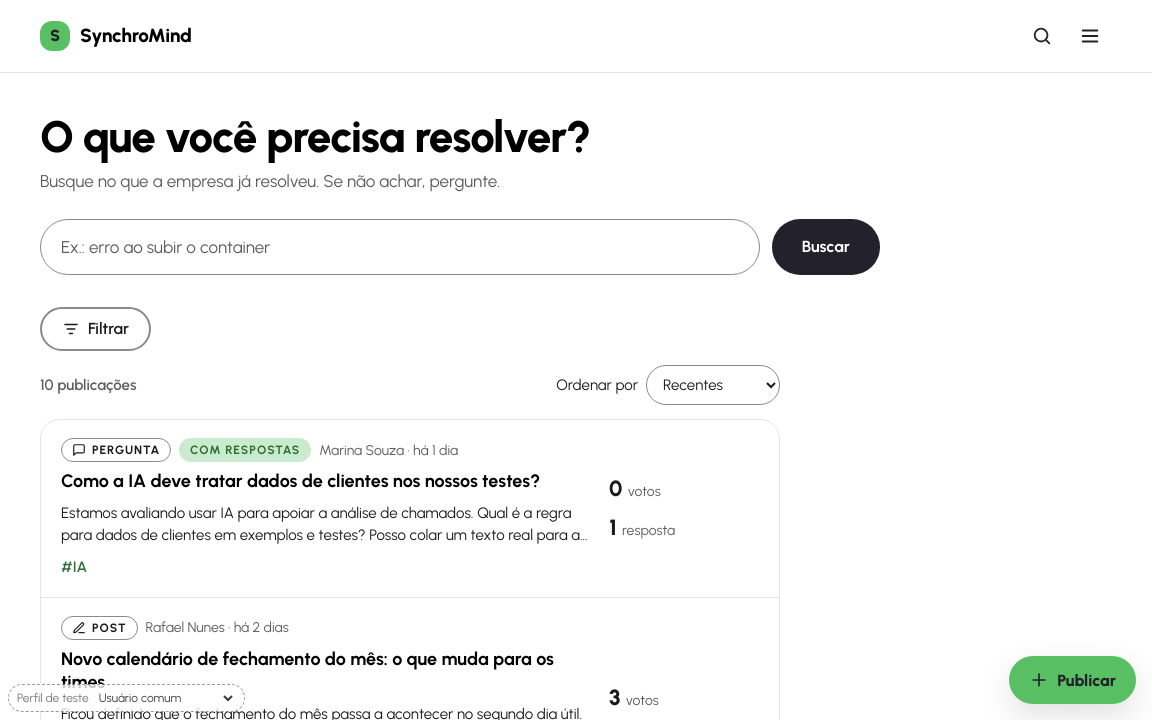
Test case: celular (360 px) › o menu do celular lista Início, Minha conta, Minhas publicações e Sair
Click the button named "Menu". click: (1090, 36)
box: [1068,14,1112,58]
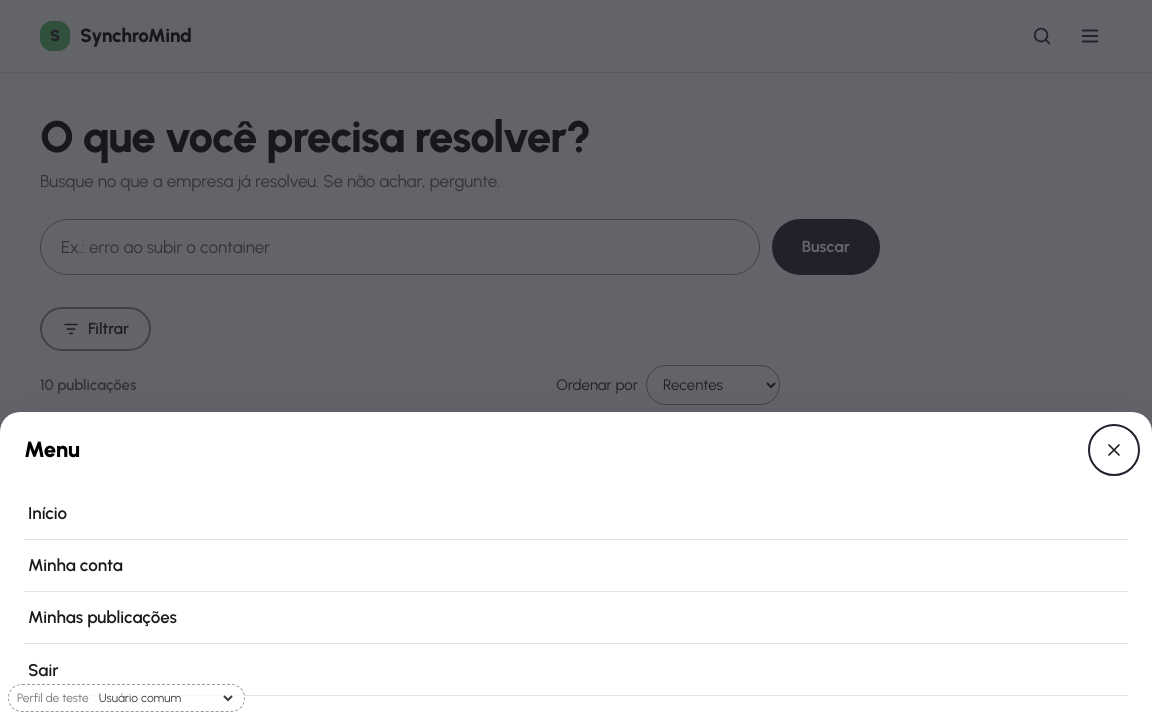
Check: the link "Início" is shown, box [24,488,1128,540]
Check: the link "Minha conta" is shown, box [24,540,1128,592]
Check: the link "Minhas publicações" is shown, box [24,592,1128,644]
